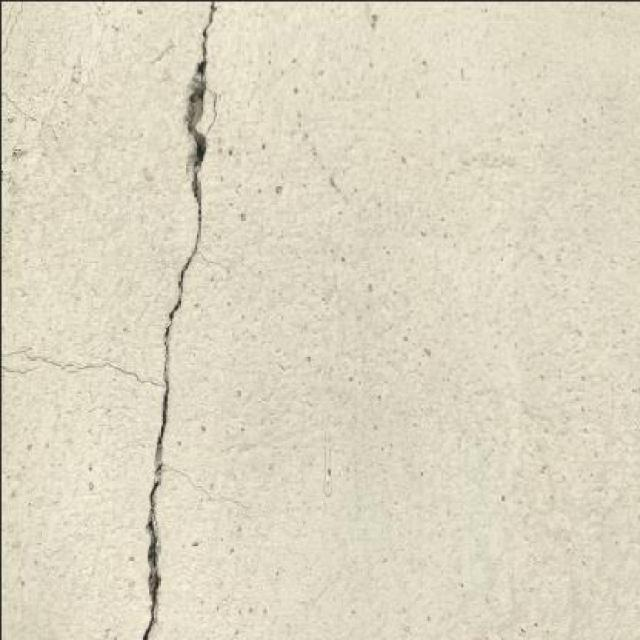GRIETA: (142, 2, 215, 639), (23, 348, 163, 387), (165, 463, 247, 508)
